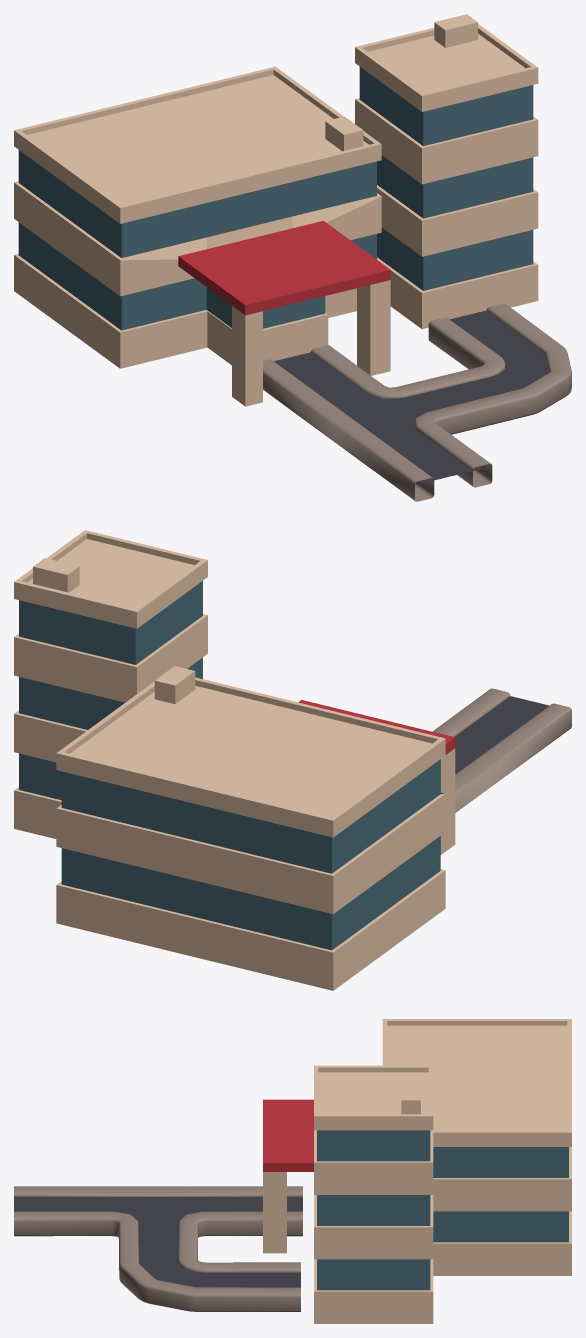
Rendered from end hospital.glb.
3 views of the same model, one above another, from view 1: azimuth 30°, elevation 25°; view 2: azimuth 150°, elevation 25°; view 3: azimuth 270°, elevation 25° (orthographic). The views are drawn at different scales.
Visible parts, largest first — view 1: hospital.001, tall building.006, road.006; view 2: hospital.001, tall building.006, road.006; view 3: hospital.001, tall building.006, road.006.
Part boxes in pixels (x1,y1,x2,y2): hospital.001: (14, 66, 390, 406); tall building.006: (355, 14, 538, 329); road.006: (263, 303, 571, 501); hospital.001: (56, 666, 455, 990); tall building.006: (14, 530, 207, 838); road.006: (432, 688, 571, 812); hospital.001: (263, 1019, 571, 1275); tall building.006: (314, 1065, 433, 1323); road.006: (14, 1186, 302, 1311).
Bounding box in the file's own units: 78.33 × 49.82 × 112.
